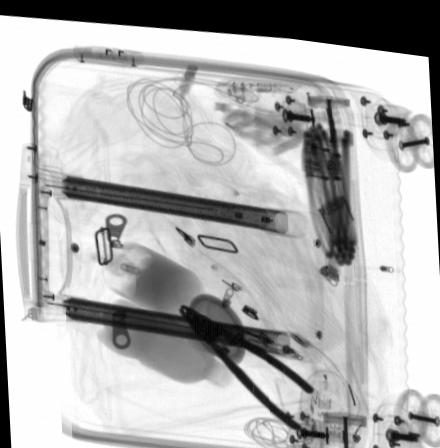Pliers: (176, 299, 315, 423)
